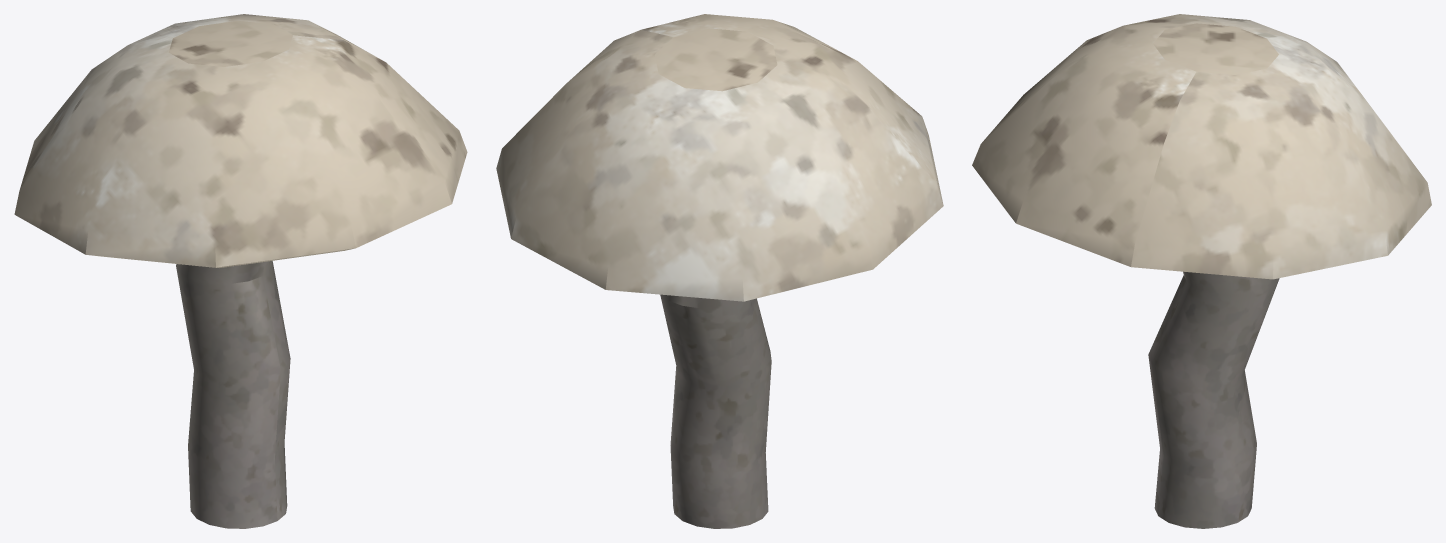
The model's file is Sm_Fungus2.fbx.
3 renders of one model, left to right at view 1: azimuth 30°, elevation 25°; view 2: azimuth 150°, elevation 25°; view 3: azimuth 270°, elevation 25°, orthographic.
Visible parts, largest first — view 1: Sm_Fungus2; view 2: Sm_Fungus2; view 3: Sm_Fungus2.
Part boxes in pixels (x1,y1,x2,y2): Sm_Fungus2: [14, 14, 467, 528]; Sm_Fungus2: [496, 14, 943, 528]; Sm_Fungus2: [972, 14, 1431, 528].
Bounding box in the file's own units: 16.9 × 19.68 × 17.68.
